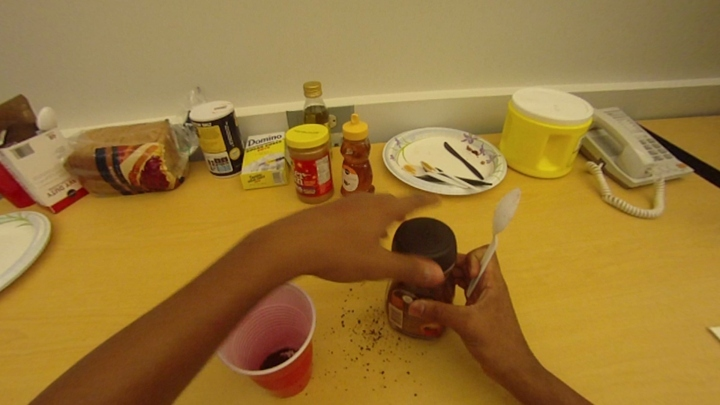hand: (297, 184, 448, 288), (408, 245, 532, 354)
